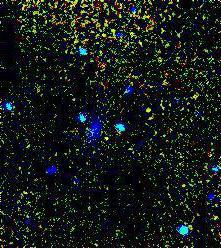star: (137, 96, 167, 126)
